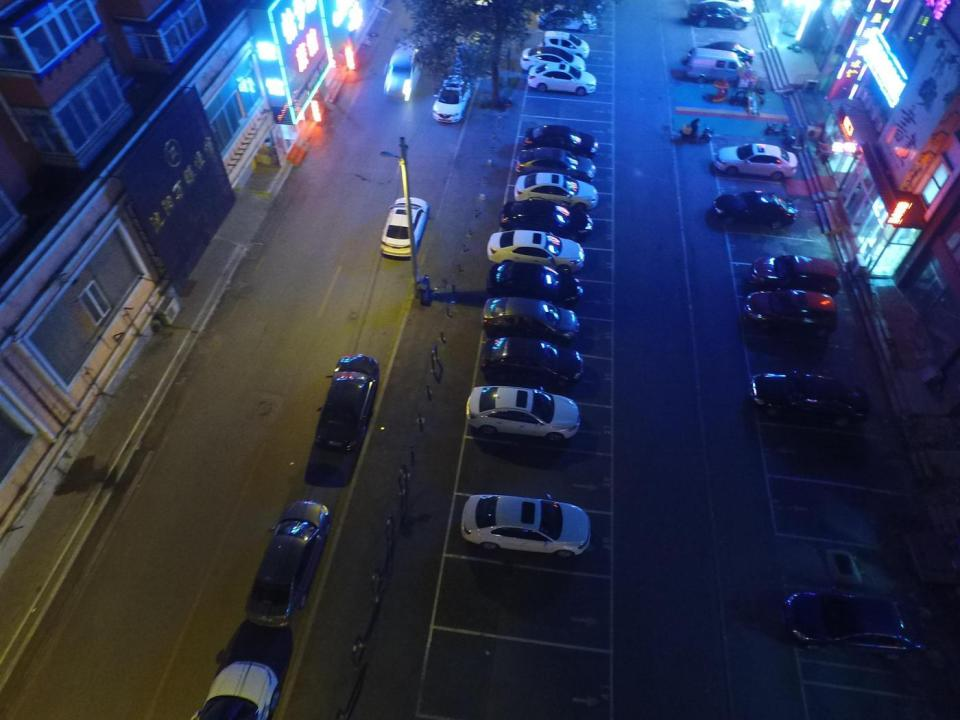car: (245, 501, 328, 630), (783, 591, 926, 660), (462, 493, 592, 559), (750, 372, 872, 432), (465, 386, 581, 446), (312, 354, 379, 452), (482, 336, 586, 392), (189, 662, 283, 717), (746, 289, 840, 340), (481, 298, 582, 344), (487, 231, 585, 277), (490, 264, 582, 310), (497, 201, 593, 243), (752, 255, 842, 296), (714, 190, 800, 231), (712, 144, 799, 183), (380, 192, 429, 259), (513, 172, 599, 209), (526, 60, 599, 94), (527, 122, 599, 156), (518, 148, 598, 178), (384, 38, 422, 101), (447, 23, 490, 74), (431, 74, 472, 123), (683, 40, 756, 66), (691, 2, 752, 30), (533, 4, 596, 31), (520, 44, 585, 70), (534, 30, 591, 58), (700, 0, 757, 12)
van: (688, 49, 755, 84)
